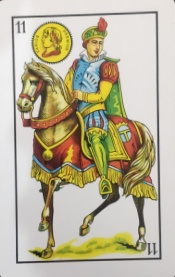11o: (11, 10, 160, 37)
